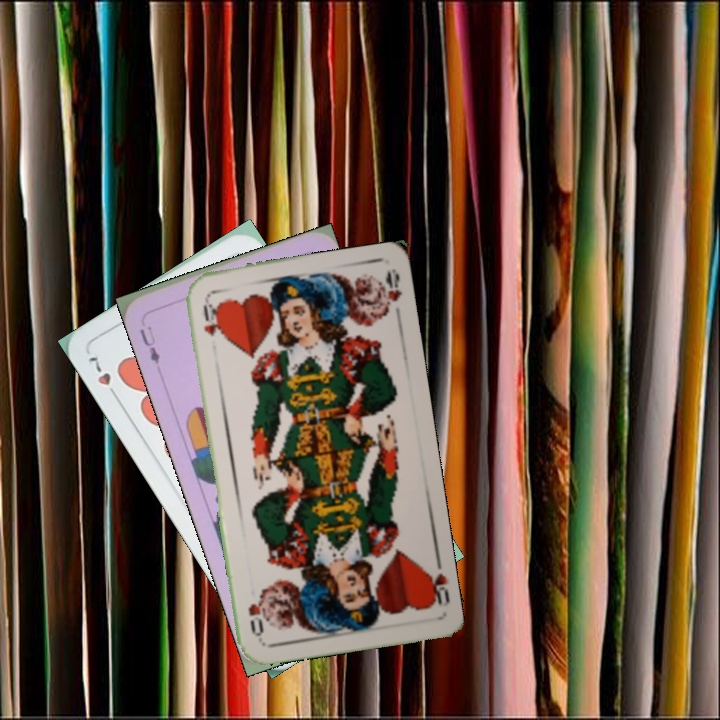EU: (135, 321, 163, 367)
H7: (84, 350, 121, 403)
HO: (421, 552, 453, 611), (199, 294, 224, 339)
